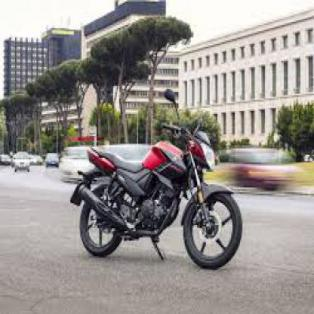Motocicleta: (69, 88, 246, 268)
